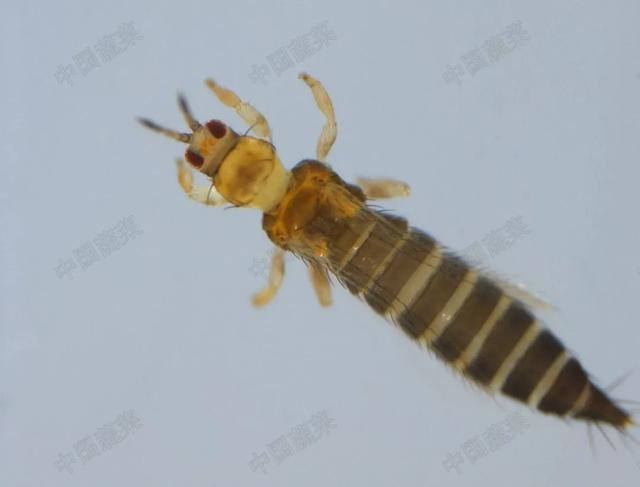Thripidae: (135, 73, 640, 463)
